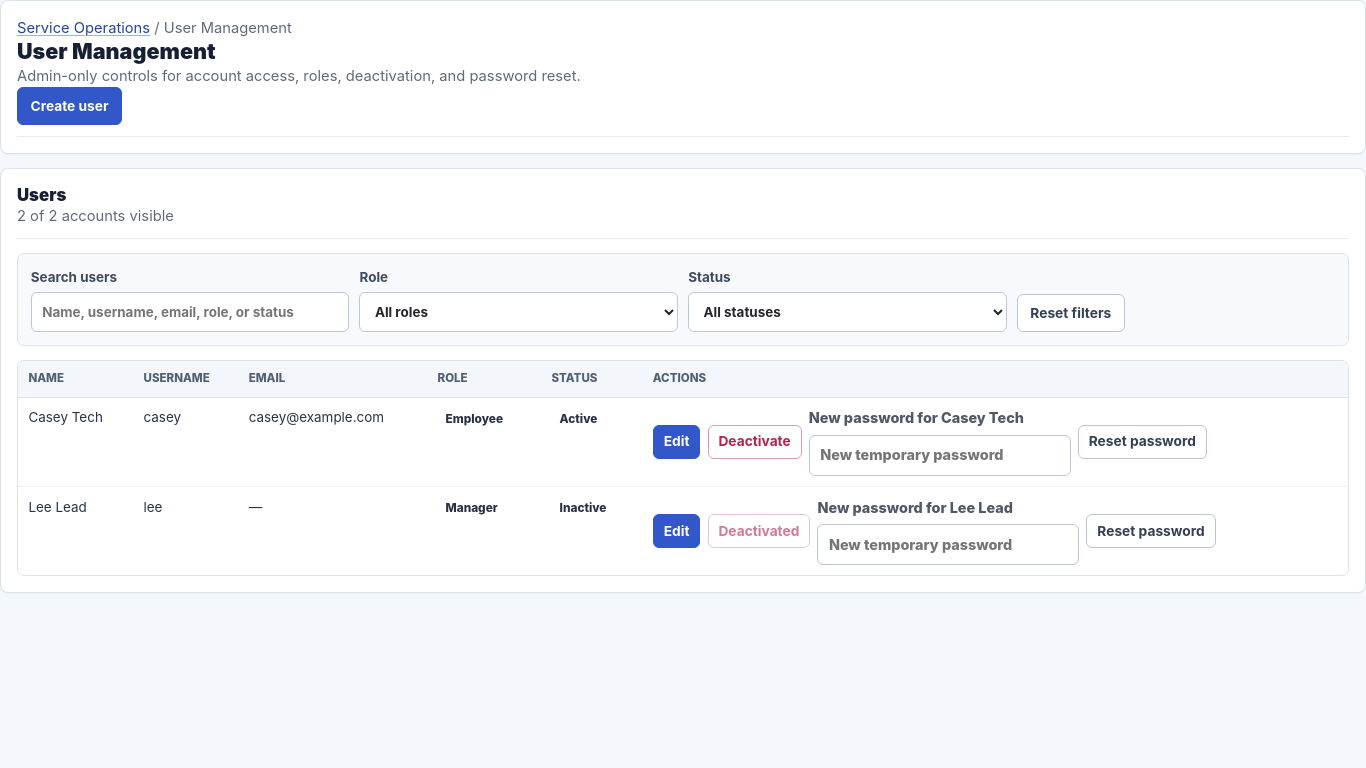
Test: UsersPage › filters user accounts by search, role, and status
Expected: the text "Casey Tech" is shown, left=18, top=398, right=133, bottom=487
Expected: the text "Lee Lead" is shown, left=18, top=487, right=133, bottom=575
Select "Manager" in the dropdown named "User role filter": point(519, 312) left=360, top=292, right=678, bottom=332
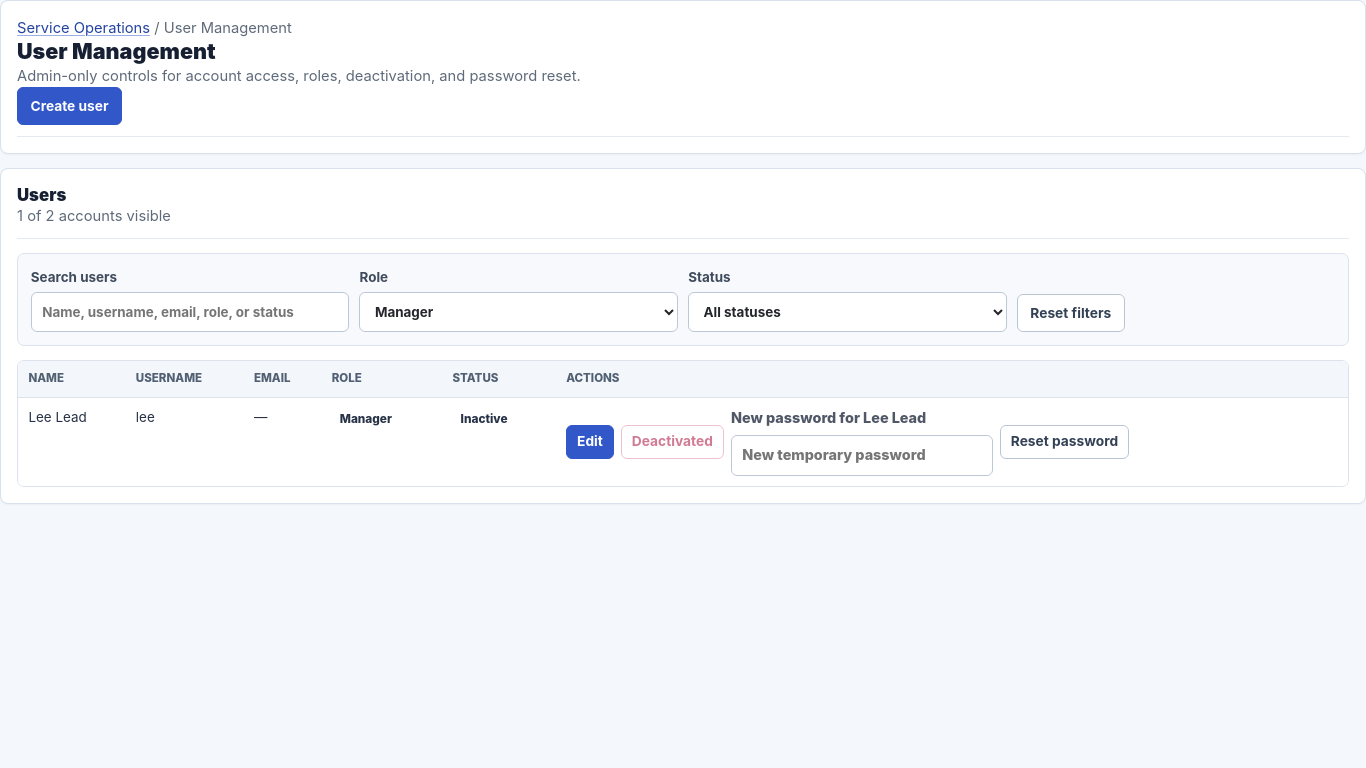
Expected: the text "Lee Lead" is shown, left=18, top=398, right=126, bottom=486
Expected: the text "Casey Tech" is gone
Expected: the text "1 of 2 accounts visible" is shown, left=17, top=207, right=171, bottom=225
Select "Active" in the dropdown named "User status filter": point(847, 312) left=688, top=292, right=1006, bottom=332
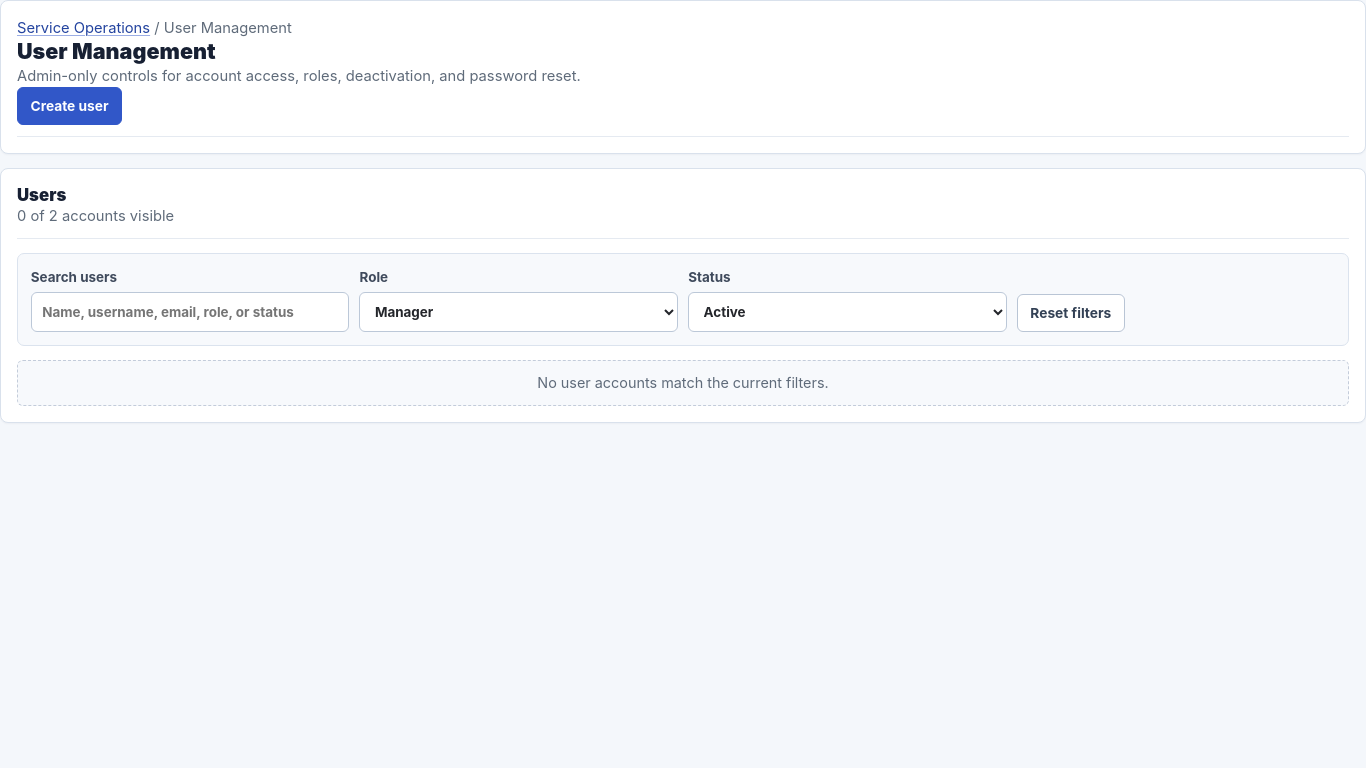
Expected: the text "No user accounts match the current filters." is shown, left=17, top=360, right=1349, bottom=406
Click the button "Reset filters": point(1071, 313) left=1017, top=294, right=1125, bottom=332
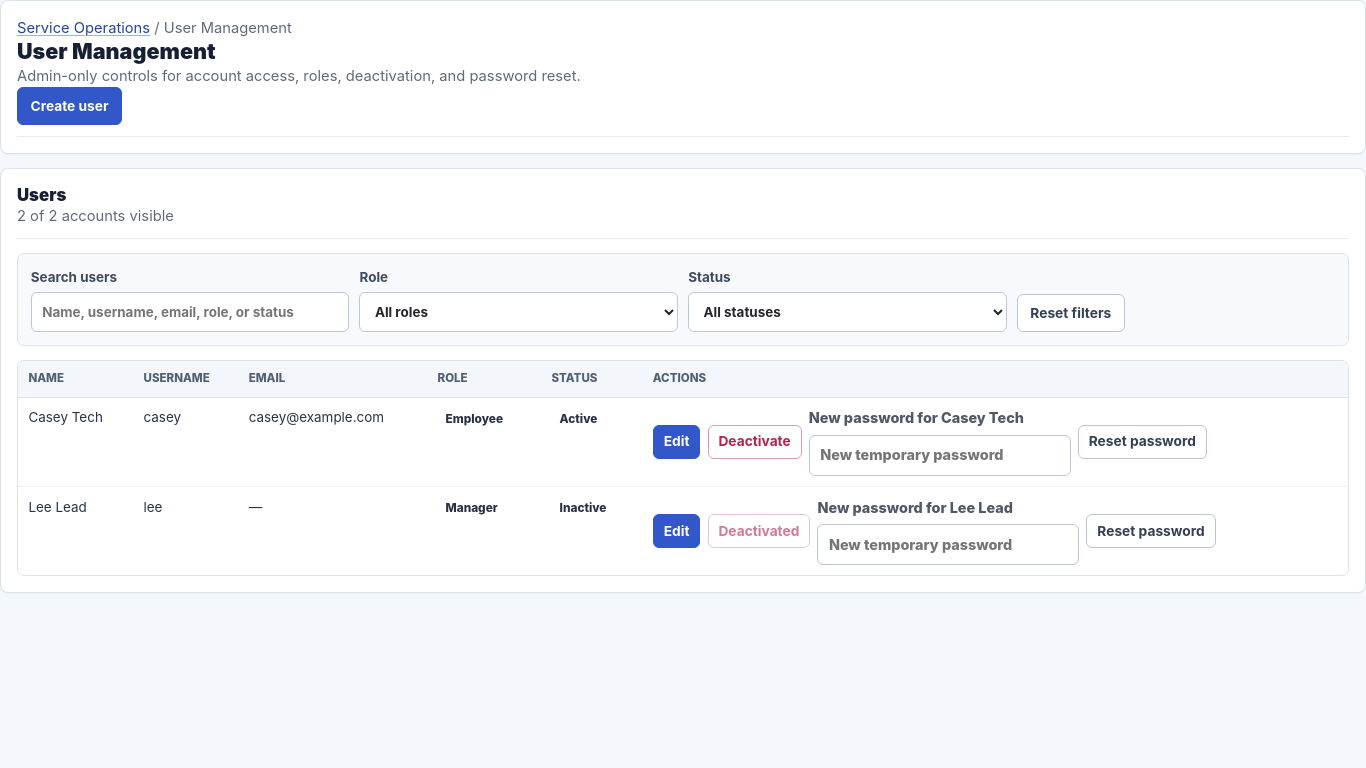
Expected: the text "Casey Tech" is shown, left=18, top=398, right=133, bottom=487
Expected: the text "Lee Lead" is shown, left=18, top=487, right=133, bottom=575
In the field named "User account search": point(190, 312) left=31, top=292, right=349, bottom=332, type "casey@example.com"
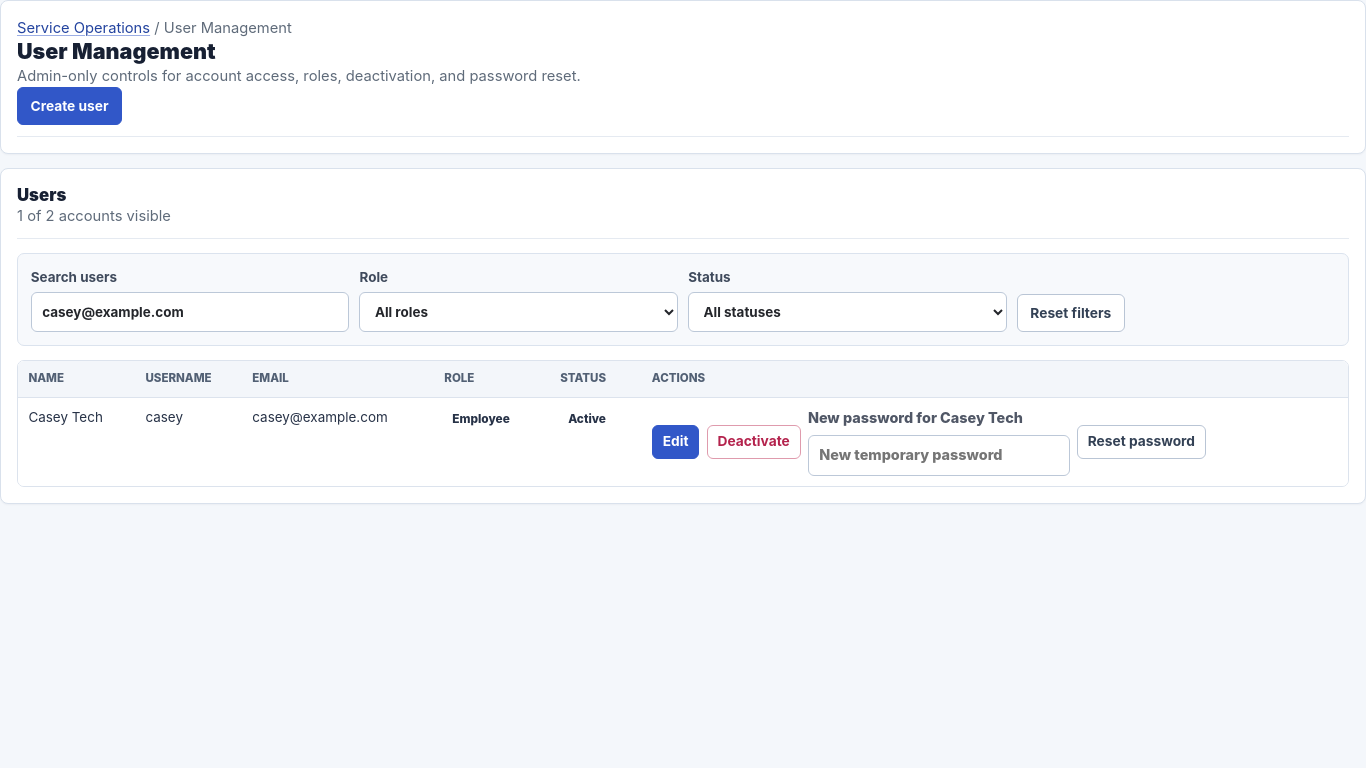
Expected: the text "Casey Tech" is shown, left=18, top=398, right=135, bottom=486
Expected: the text "Lee Lead" is gone
